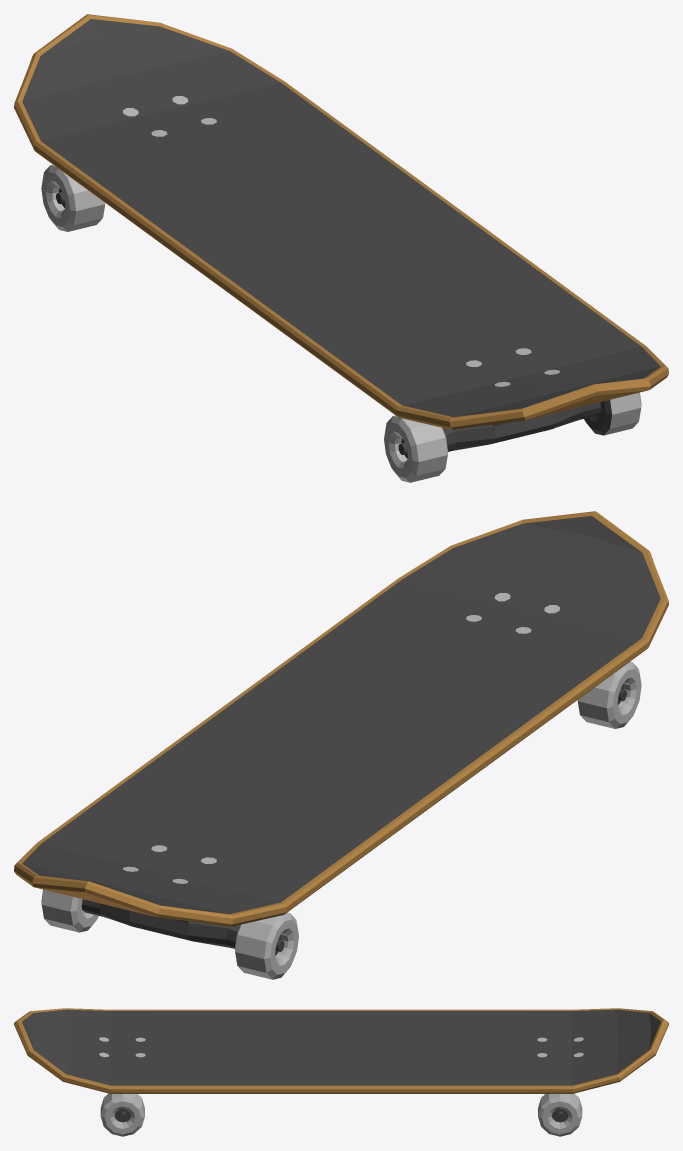
File: skatee.glb
3 views of the same model, one above another, from view 1: azimuth 30°, elevation 25°; view 2: azimuth 150°, elevation 25°; view 3: azimuth 270°, elevation 25° (orthographic). The views are drawn at different scales.
Parts seen in each view (by area): view 1: Skateboard; view 2: Skateboard; view 3: Skateboard.
Boxes of the visible parts, left/top/right/bottom form: Skateboard: left=14, top=14, right=668, bottom=482; Skateboard: left=14, top=511, right=668, bottom=979; Skateboard: left=14, top=1008, right=668, bottom=1136.
Size of the model in its own units: 1.46 by 0.7127 by 5.16.
Materials: 1 (1 with a texture image).
